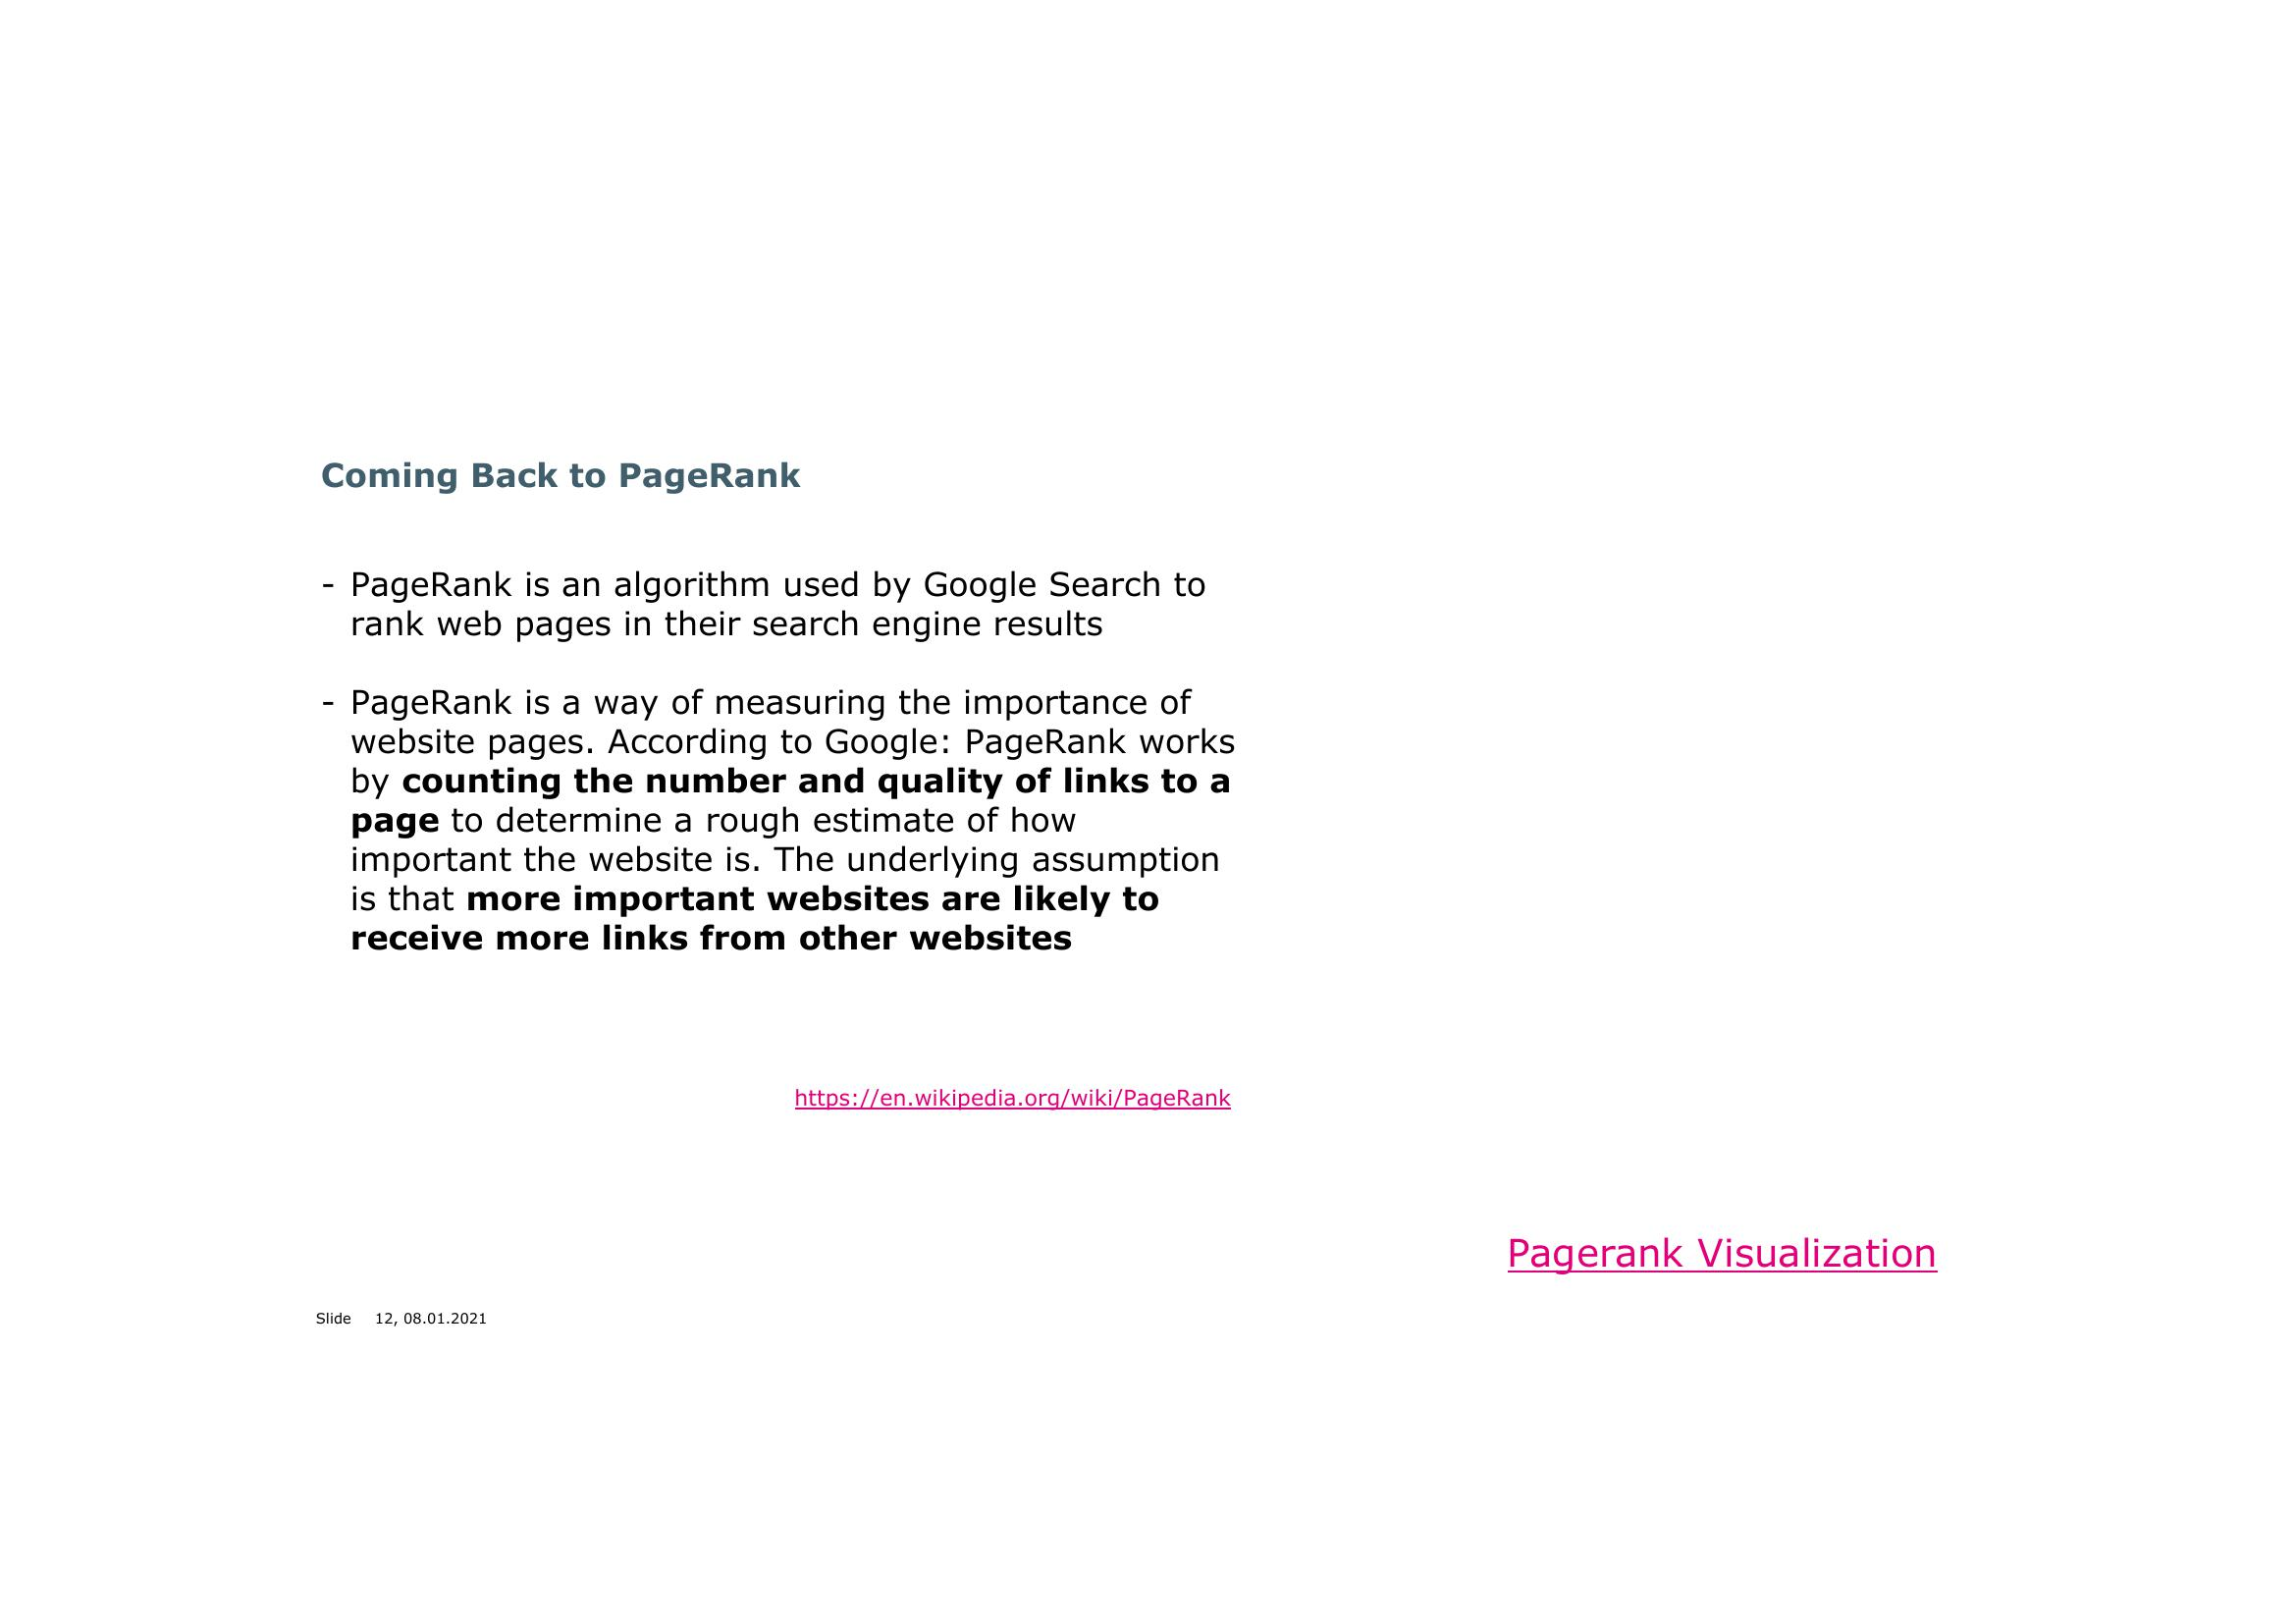Title: (297, 446, 812, 511)
